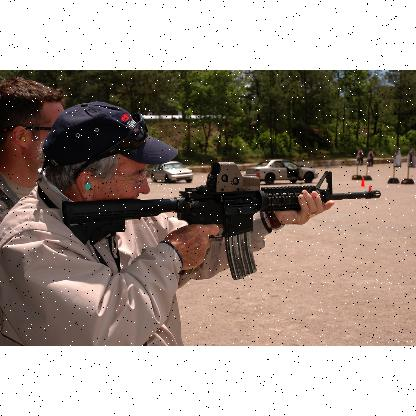gun: (63, 160, 380, 276)
